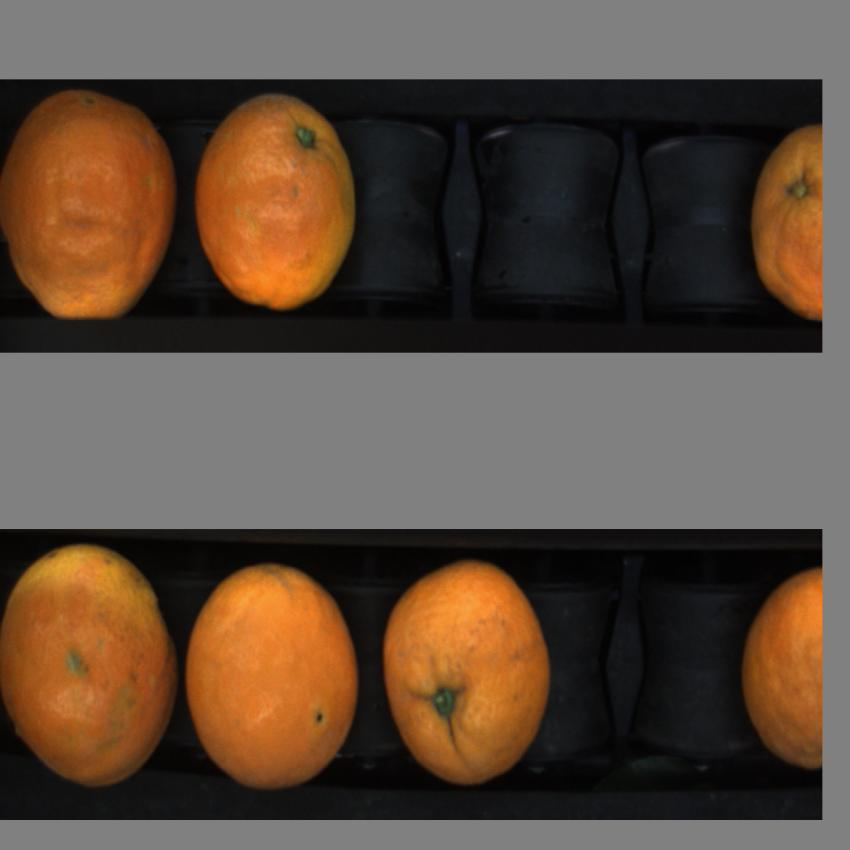Buen estado: (184, 556, 361, 792), (382, 558, 554, 786), (740, 568, 822, 771)
Mal estado: (1, 541, 180, 798), (3, 87, 177, 320), (195, 88, 358, 315), (744, 110, 822, 324)
